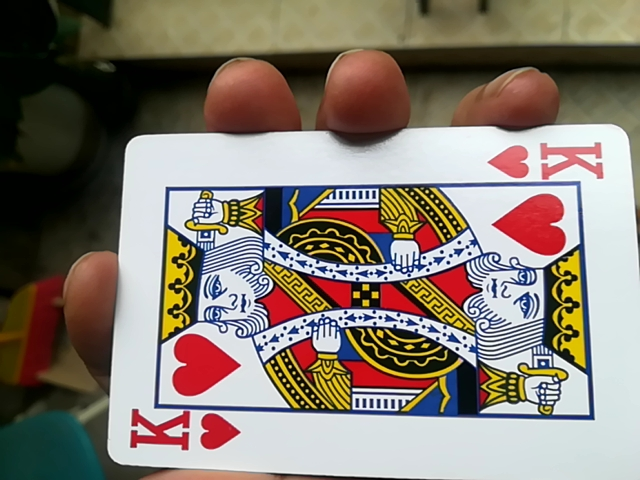hx k: (105, 127, 633, 480)
